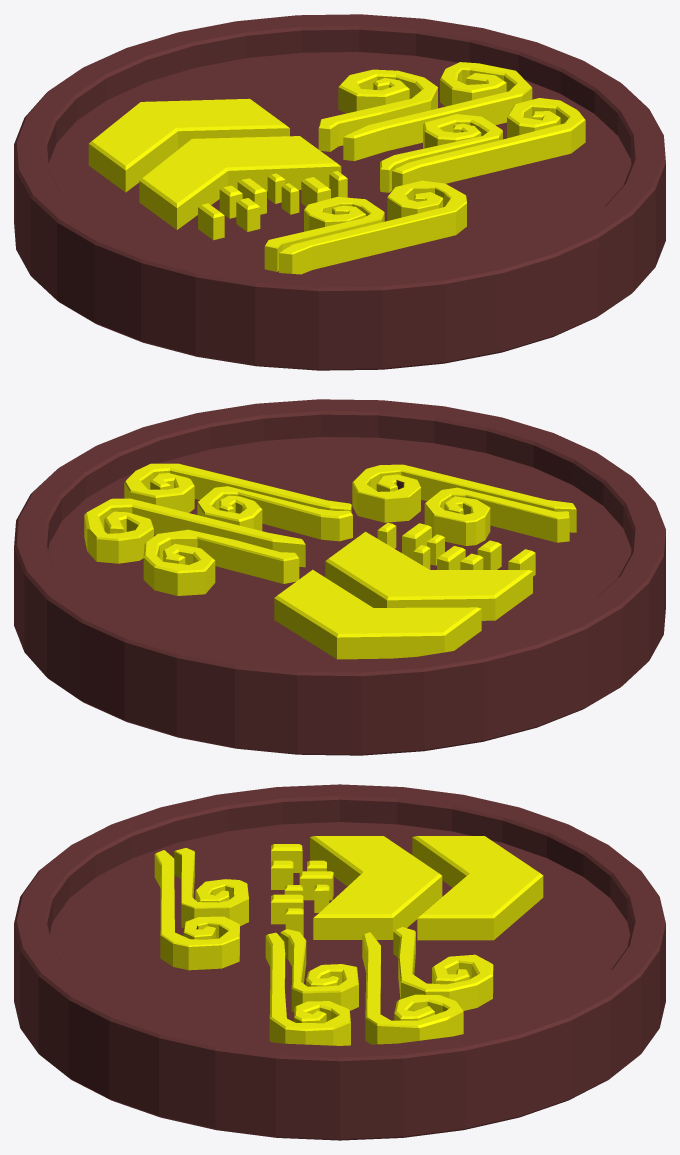
Rendered from JumpHeightCoin.fbx.
3 views of the same model, one above another, from view 1: azimuth 30°, elevation 25°; view 2: azimuth 150°, elevation 25°; view 3: azimuth 270°, elevation 25° (orthographic).
Visible parts, largest first — view 1: Coin; view 2: Coin; view 3: Coin.
Boxes of the visible parts, x1=… form: Coin: x1=14, y1=14, x2=665, y2=370; Coin: x1=14, y1=399, x2=665, y2=755; Coin: x1=14, y1=784, x2=665, y2=1140.
Bounding box in the file's own units: 200 × 28.06 × 200.
